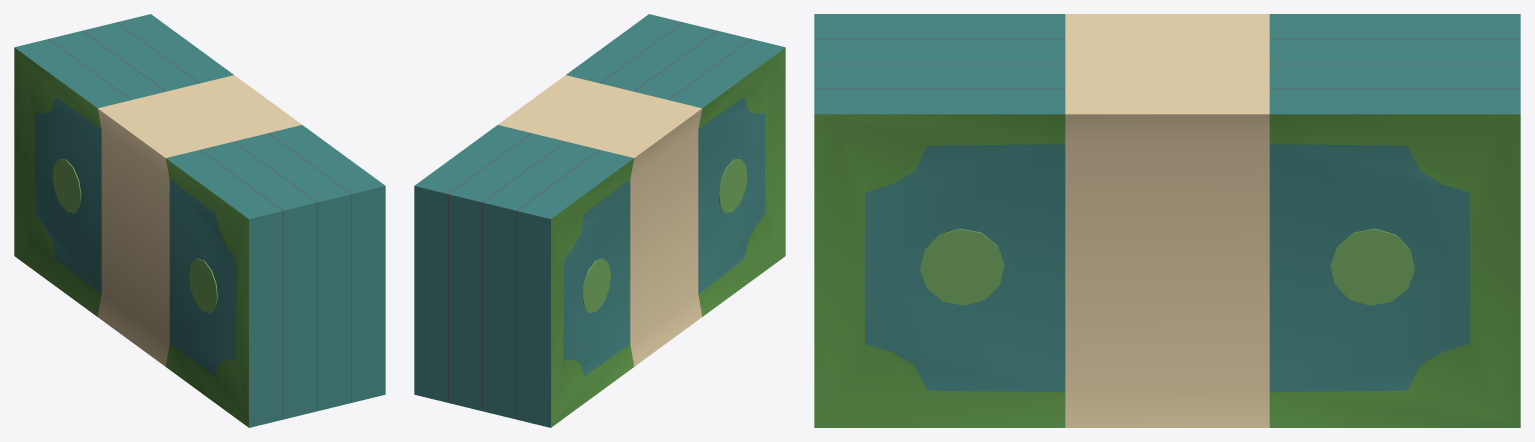
File: Money_2.fbx
3 views of the same model, side by side, from view 1: azimuth 30°, elevation 25°; view 2: azimuth 150°, elevation 25°; view 3: azimuth 270°, elevation 25° (orthographic). The views are drawn at different scales.
Visible parts, largest first — view 1: Money_2; view 2: Money_2; view 3: Money_2.
Part boxes in pixels (bbox=[...]): Money_2: bbox=[14, 14, 385, 427]; Money_2: bbox=[414, 14, 785, 427]; Money_2: bbox=[814, 14, 1520, 427].
Bounding box in the file's own units: 0.057 × 0.0832 × 0.1697.
